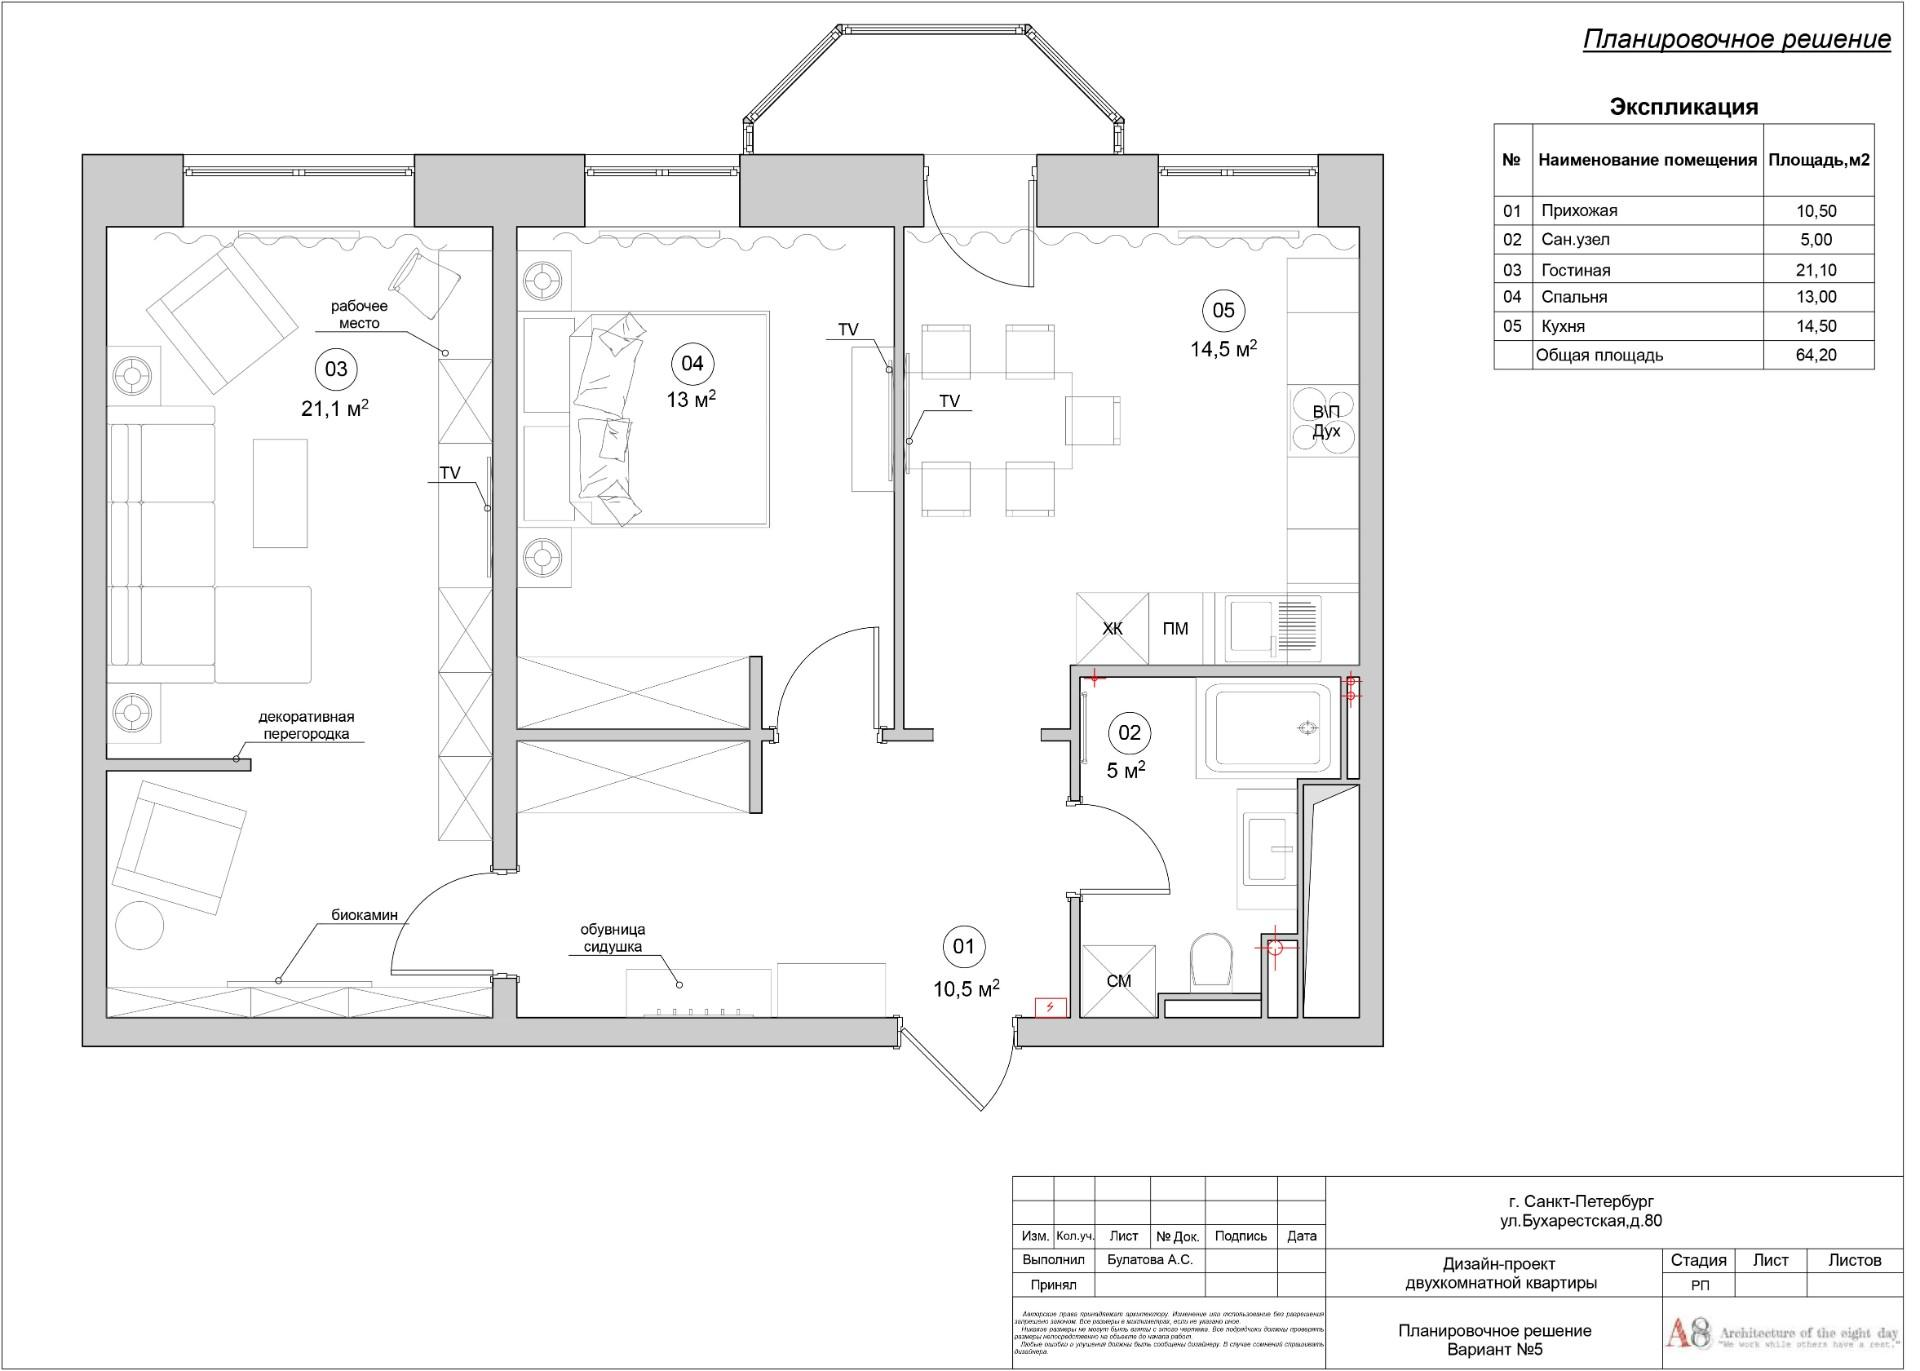balcony: (755, 34, 1117, 155)
bathroom: (1079, 676, 1342, 1017)
bedroom: (517, 228, 897, 731)
hallway: (516, 741, 1072, 1017)
kitchen: (902, 228, 1360, 729)
living_room: (105, 228, 493, 1019)
